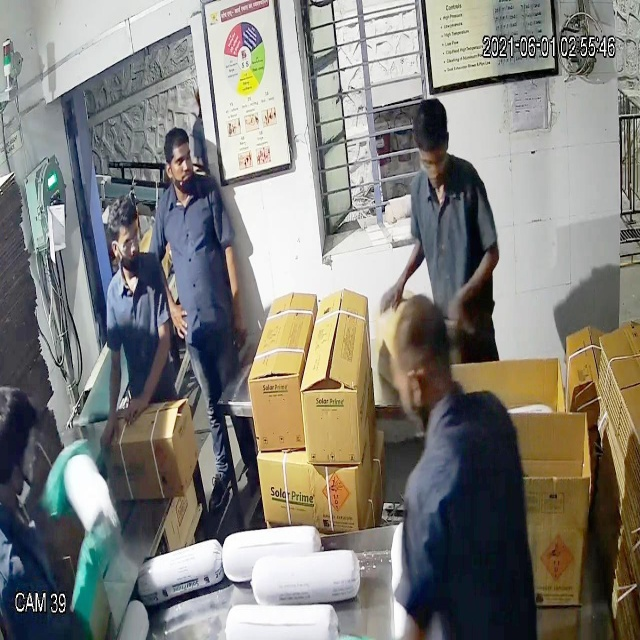Gafas: (111, 226, 143, 257)
